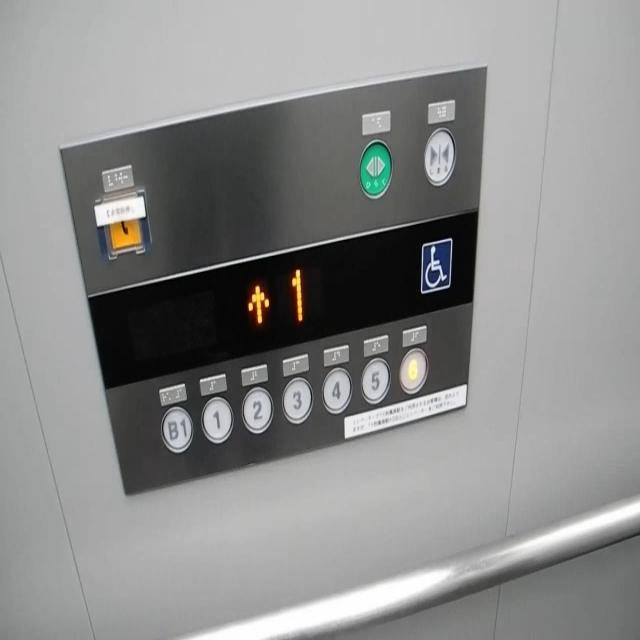1: (200, 396, 234, 442)
2: (240, 385, 274, 434)
3: (280, 375, 314, 423)
4: (321, 366, 353, 414)
5: (359, 354, 392, 404)
6: (398, 348, 428, 393)
B1: (160, 406, 193, 452)
CH: (420, 236, 452, 292)
call: (92, 188, 152, 258)
close: (422, 124, 456, 186)
open: (358, 139, 393, 198)
